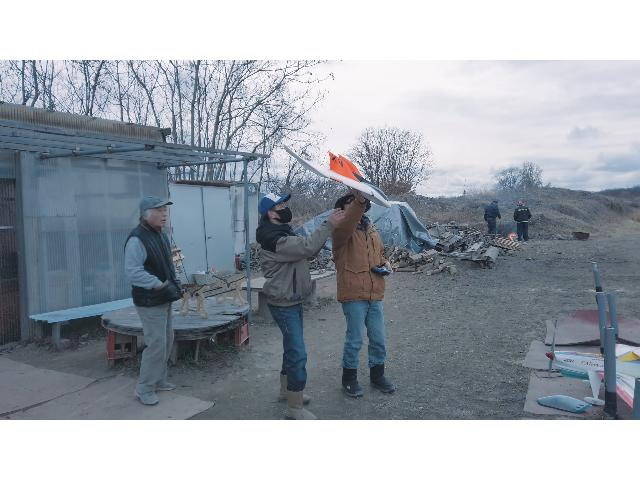Anti-Drone: (278, 143, 394, 211)
